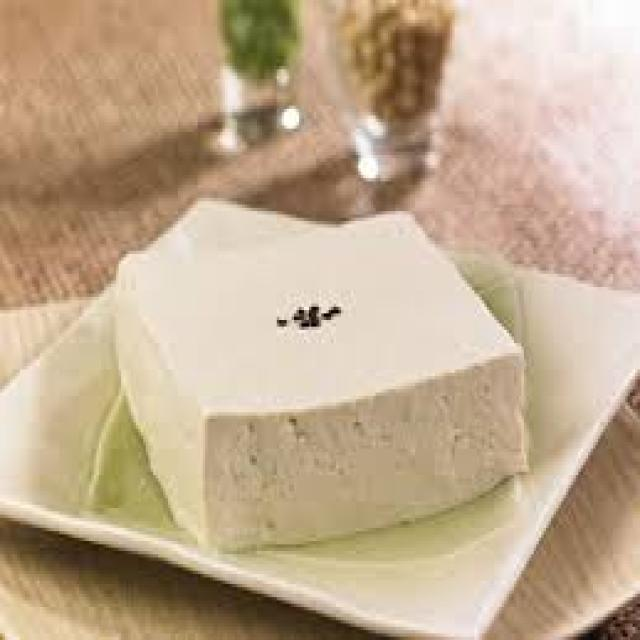tofu: (81, 222, 564, 577)
